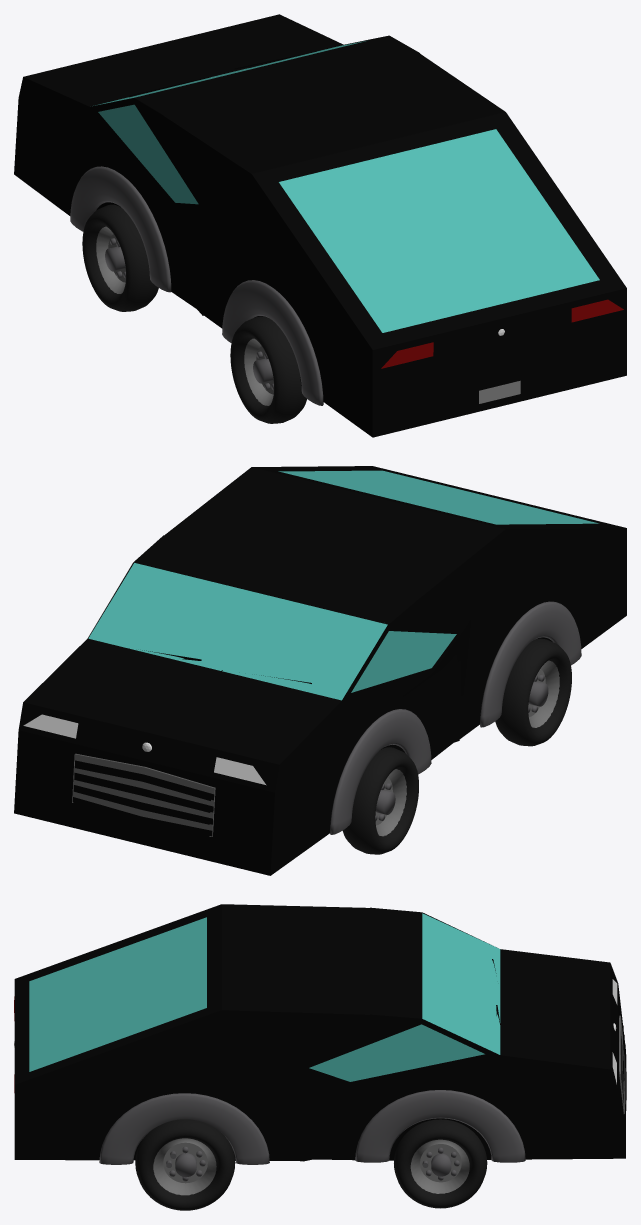
Rendered from araba 2.5.fbx.
The picture shows the model from 3 angles, top to bottom: view 1: azimuth 30°, elevation 25°; view 2: azimuth 150°, elevation 25°; view 3: azimuth 270°, elevation 25°; orthographic projection. The views are drawn at different scales.
Visible parts, largest first — view 1: Cube, Cube.003, Cube.001, Cube.002, tekerlek.002, Torus.001, tekerlek.001, Torus, Cube.004, Cylinder.001, Cylinder.002, Plane.002 (+3 smaller); view 2: Cube.001, Cube, CAM.001, Cube.003, tekerlek.002, Torus.001, Torus, tekerlek.001, ızgara, Izgara Boşlu, Cube.004, Cube.002 (+4 smaller); view 3: Cube.001, Cube, Cube.003, CAM.001, Torus.003, Cube.002, Torus.002, Cube.004, tekerlek.004, tekerlek, Cylinder.004, Cylinder (+2 smaller).
Part boxes in pixels (box(x1,y1,x2,y2)): Cube: box(163, 53, 626, 437); Cube.003: box(279, 129, 599, 332); Cube.001: box(14, 14, 419, 315); Cube.002: box(252, 112, 626, 349); tekerlek.002: box(230, 316, 306, 423); Torus.001: box(70, 166, 171, 292); tekerlek.001: box(82, 204, 158, 311); Torus: box(222, 280, 323, 405); Cube.004: box(98, 104, 198, 204); Cylinder.001: box(96, 226, 125, 293); Cylinder.002: box(244, 338, 273, 405); Plane.002: box(571, 299, 623, 322); Cube.001: box(14, 535, 471, 875); Cube: box(164, 467, 626, 738); CAM.001: box(88, 563, 387, 700); Cube.003: box(278, 470, 598, 524); tekerlek.002: box(495, 638, 571, 746); Torus.001: box(330, 709, 431, 834); Torus: box(480, 601, 581, 727); tekerlek.001: box(342, 747, 418, 854); ızgara: box(72, 753, 215, 836); Izgara Boşlu: box(73, 762, 211, 836); Cube.004: box(351, 631, 456, 692); Cube.002: box(252, 466, 625, 528); Cube.001: box(282, 907, 625, 1161); Cube: box(14, 904, 370, 1161); Cube.003: box(29, 917, 206, 1071); CAM.001: box(422, 913, 500, 1054); Torus.003: box(355, 1090, 525, 1162); Cube.002: box(14, 904, 221, 1084); Torus.002: box(99, 1093, 269, 1164); Cube.004: box(309, 1024, 484, 1081); tekerlek.004: box(135, 1119, 235, 1210); tekerlek: box(394, 1119, 487, 1208); Cylinder.004: box(153, 1138, 216, 1195); Cylinder: box(410, 1139, 469, 1193).
Size of the model in its own units: 225 by 168 by 471.
